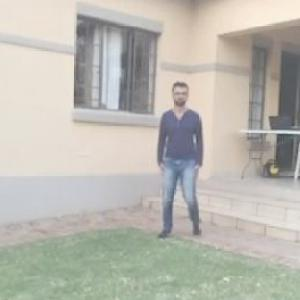follow: (154, 73, 205, 250)
